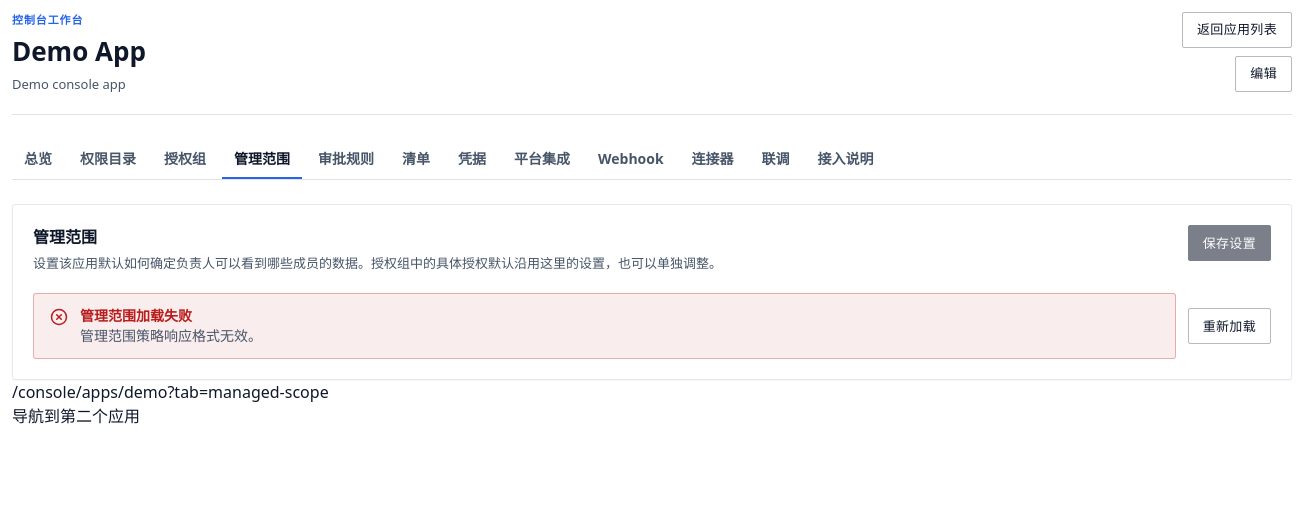
Test: ConsoleAppWorkspace › 管理范围权威快照格式错误时禁止编辑和保存，重试成功后才开放
The image size is (1304, 505).
Check: the text "管理范围策略响应格式无效。" is shown, box 80,326 -> 262,346
Check: the button "保存设置" is disabled, box 1188,225 -> 1271,261
Click the button "重新加载" at {"x": 1229, "y": 326}, box 1188,308 -> 1271,344
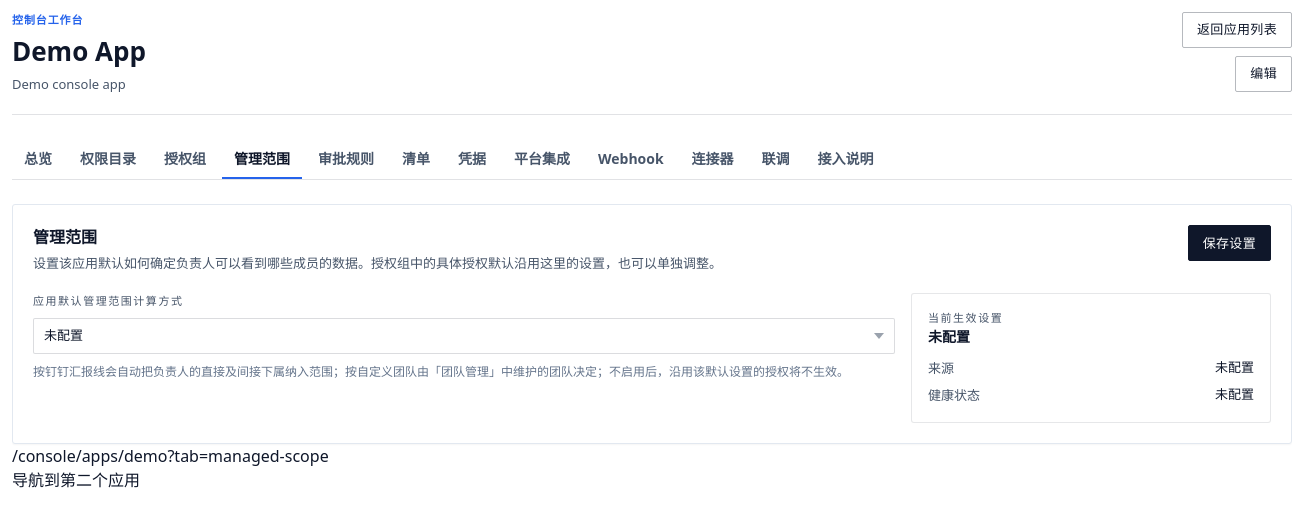
Check: the dropdown labelled "应用默认管理范围计算方式" shows "未配置", box 33,318 -> 895,354
Check: the button "保存设置" is enabled, box 1188,225 -> 1271,261
